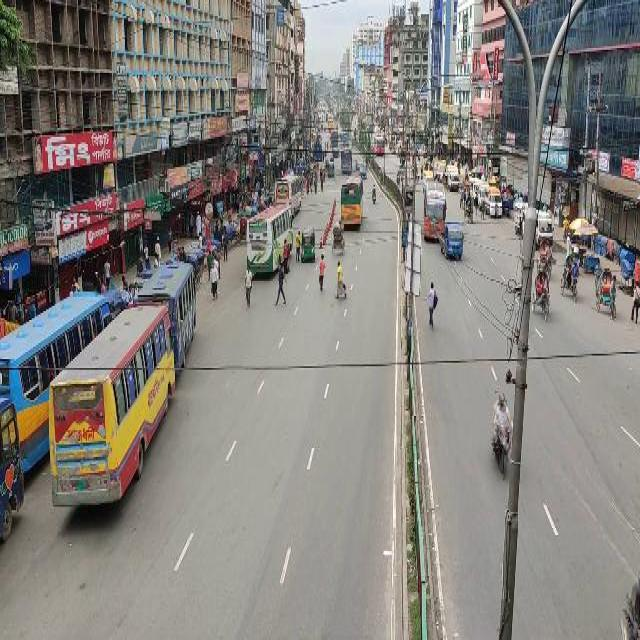11: (436, 220, 464, 260)
13: (596, 265, 618, 318), (531, 269, 551, 321), (558, 254, 578, 302), (330, 219, 346, 257), (537, 237, 551, 275)
17: (46, 302, 176, 509), (0, 289, 114, 479), (132, 258, 198, 378), (298, 225, 316, 262)
7: (482, 184, 502, 218), (535, 208, 553, 236)
Truck: (245, 201, 293, 279), (422, 180, 446, 243), (338, 172, 364, 230), (273, 172, 303, 216)
